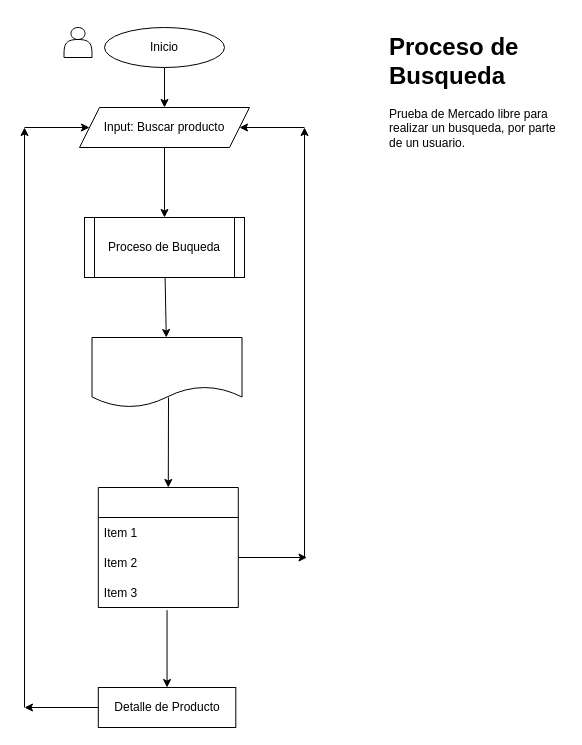
The diagram is 582 pixels wide and 745 high, and some of its shapes have lost their labels. The box of each missing label's shape, as (x1, y1, x2, y2) in pixels:
List Productos: (97, 486, 238, 608)
Resultao de Busqueda: (91, 336, 242, 408)
